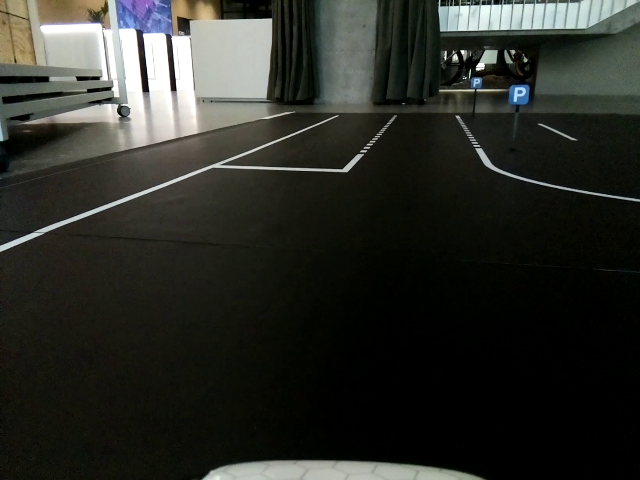park: (509, 87, 528, 104), (472, 78, 483, 89)
